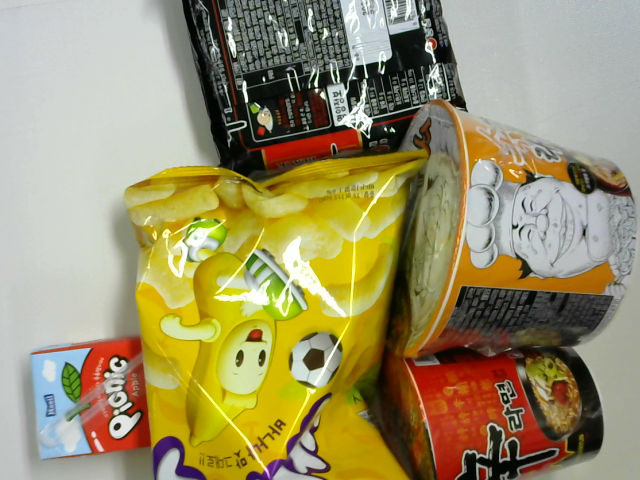Banana_Kick: (117, 152, 406, 480)
Hejangchan: (401, 102, 639, 360)
Picnic_Apple: (29, 336, 153, 464)
Sinramen_Black: (185, 4, 469, 174)
Sinramen_small: (385, 346, 610, 480)
